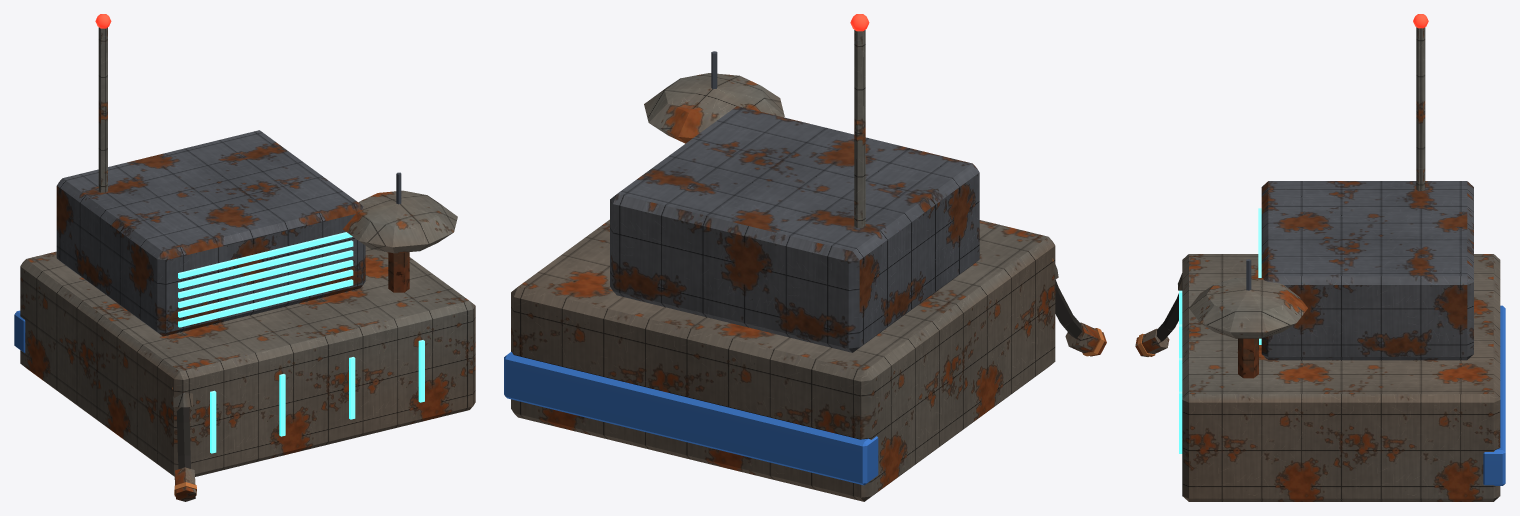
The model's file is centrerecherche.glb.
3 renders of one model, left to right at view 1: azimuth 30°, elevation 25°; view 2: azimuth 150°, elevation 25°; view 3: azimuth 270°, elevation 25°, orthographic. The views are drawn at different scales.
Parts seen in each view (by area): view 1: centrerecherche; view 2: centrerecherche; view 3: centrerecherche.
Part boxes in pixels (x1,y1,x2,y2): centrerecherche: (14,14,475,501); centrerecherche: (504,14,1106,501); centrerecherche: (1135,14,1505,501).
Bounding box in the file's own units: 2.8 × 3.08 × 2.79.
9 materials, 3 textured.
